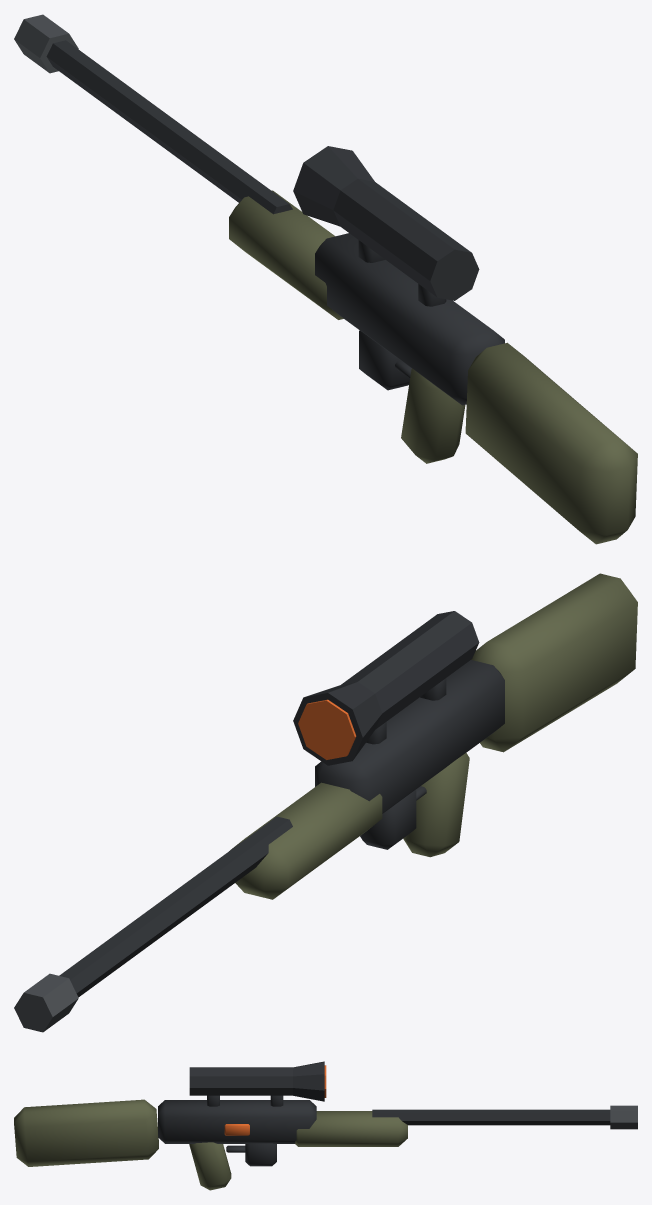
Rendered from weapon_sniper.glb.
3 renders of one model, top to bottom at view 1: azimuth 30°, elevation 25°; view 2: azimuth 150°, elevation 25°; view 3: azimuth 270°, elevation 25°, orthographic. The views are drawn at different scales.
Parts seen in each view (by area): view 1: weapon_sniper; view 2: weapon_sniper; view 3: weapon_sniper.
Part boxes in pixels (x1,y1,x2,y2): weapon_sniper: (14, 14, 637, 544); weapon_sniper: (14, 573, 637, 1032); weapon_sniper: (14, 1061, 637, 1190).
Size of the model in its own units: 0.0675 by 0.2191 by 0.9831.
1 material, 1 textured.
